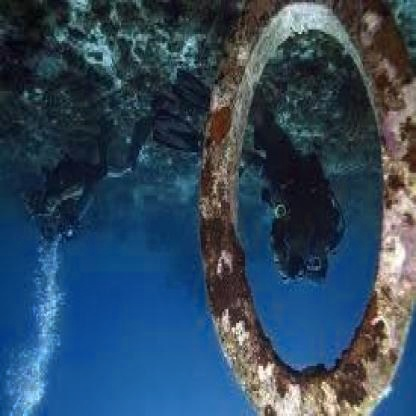tire: (206, 13, 275, 395)
